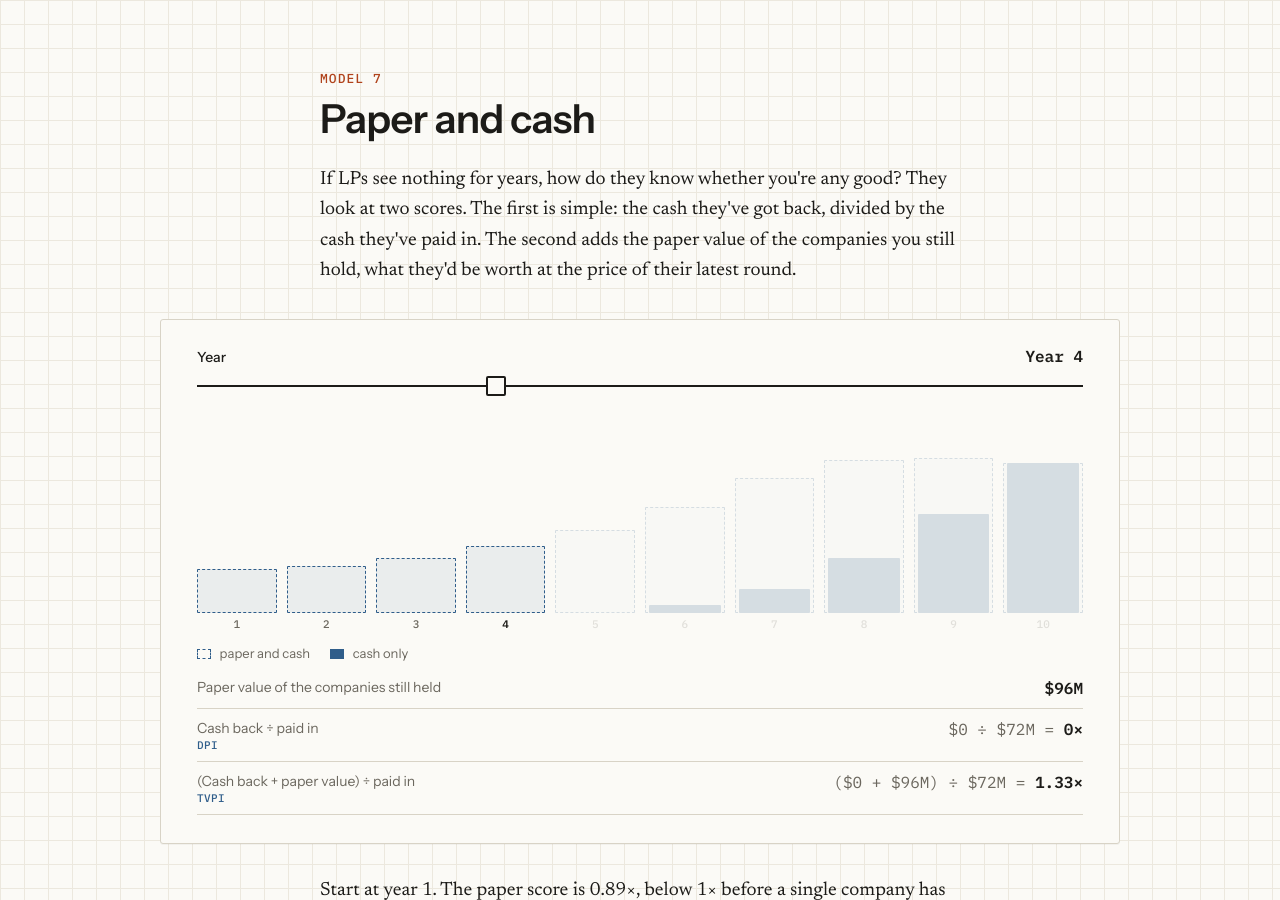
Part two, model 7: paper and cash › scores year 8 and year 1
The width and height of the screenshot is (1280, 900).
Set the slider labelled "Year" to "8" at (882, 386), box [197,372,1083,400]
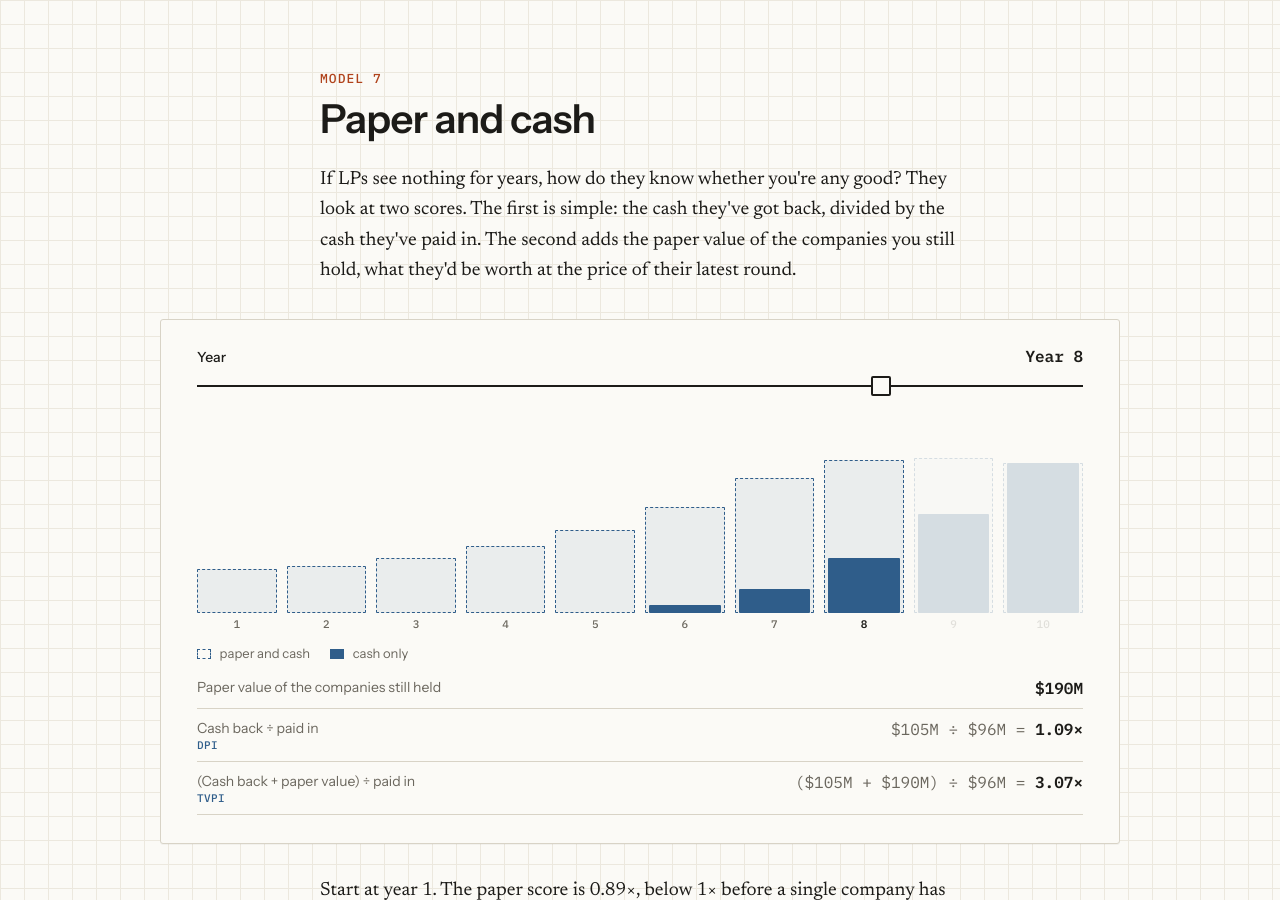
expect the element with test id "f6-dpi" reads "$105M ÷ $96M = 1.09×": met, box [891,719,1083,739]
expect the element with test id "f6-tvpi" reads "($105M + $190M) ÷ $96M = 3.07×": met, box [795,772,1083,792]
Set the slider labelled "Year" to "1" at (205, 386), box [197,372,1083,400]
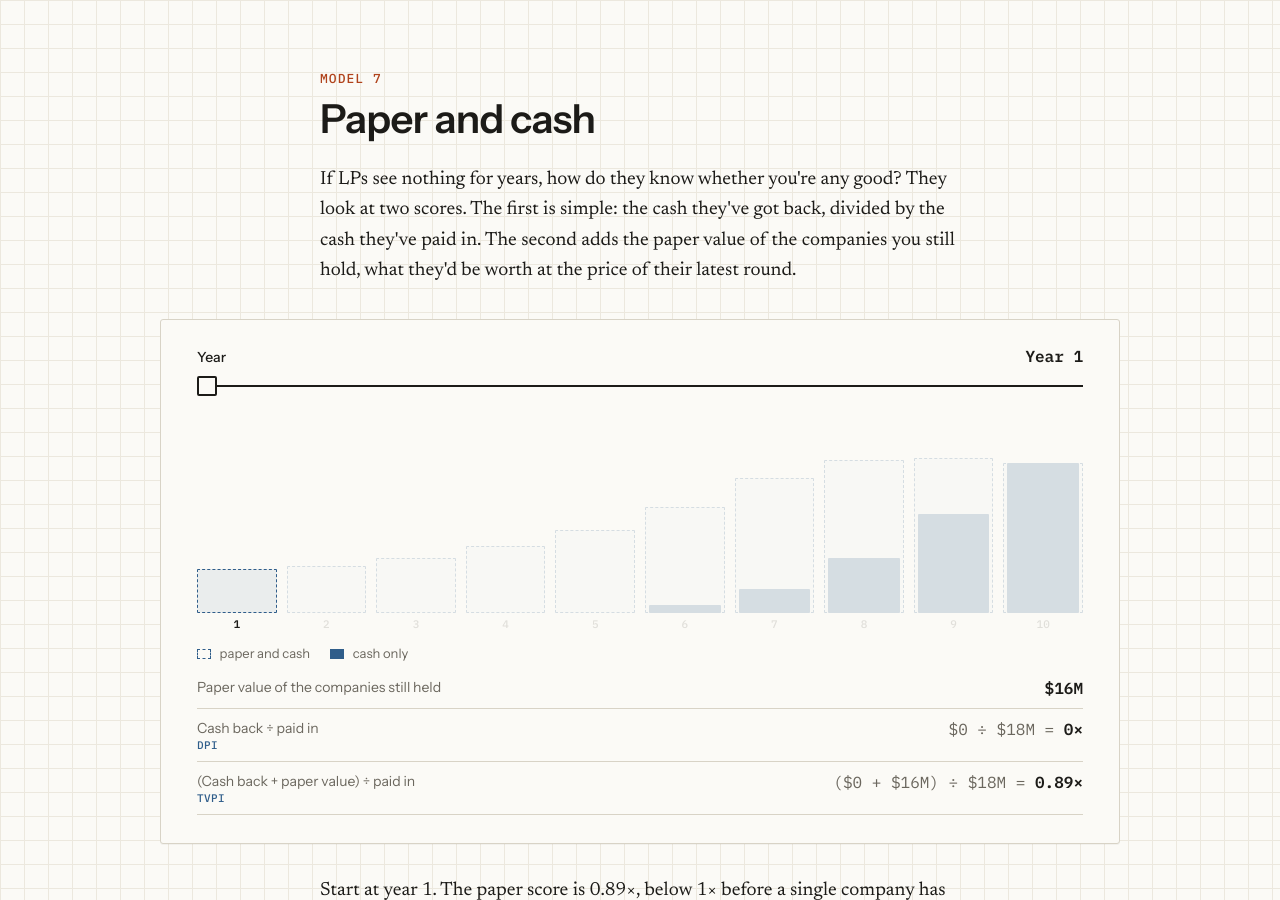
expect the element with test id "f6-dpi" reads "$0 ÷ $18M = 0×": met, box [949,719,1083,739]
expect the element with test id "f6-tvpi" reads "($0 + $16M) ÷ $18M = 0.89×": met, box [833,772,1083,792]
